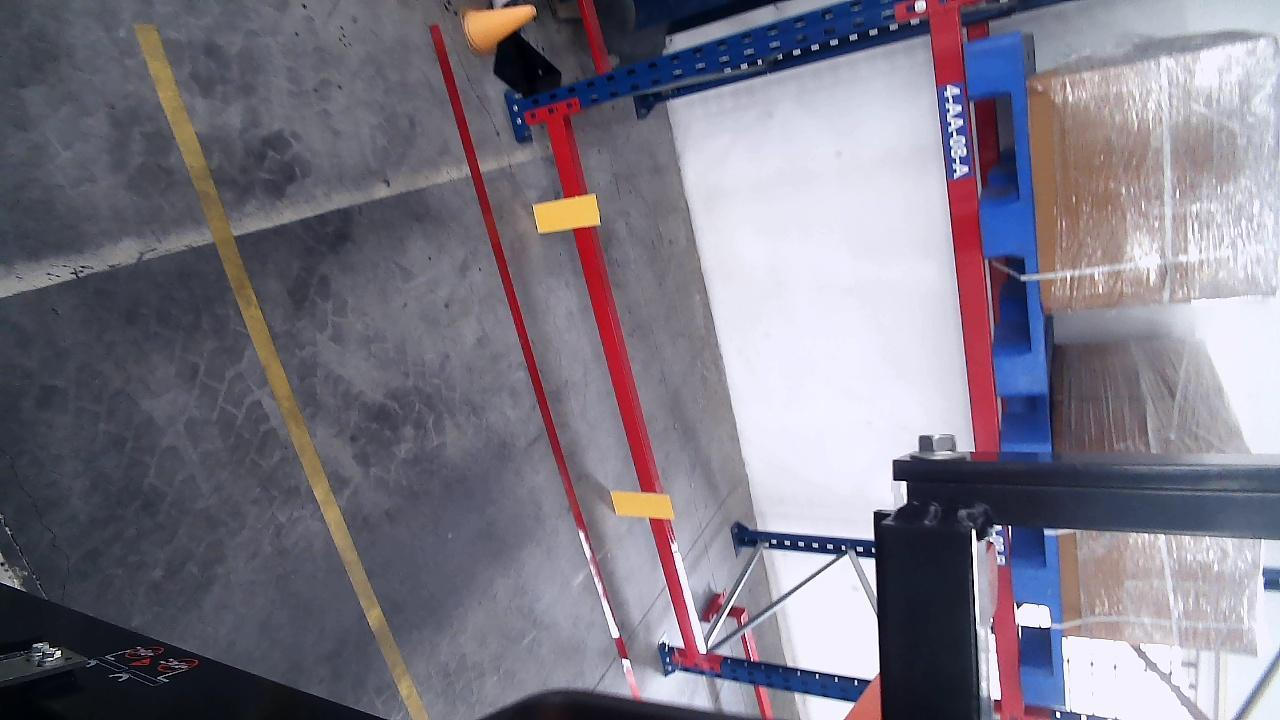h_rack: (546, 117, 701, 654), (930, 18, 1002, 453)
orange_strip: (532, 193, 603, 234), (612, 494, 675, 518)
red_line: (427, 22, 640, 699)
small_pallet: (964, 37, 1052, 395), (1001, 443, 1067, 708)
yellow_line: (132, 22, 434, 720)
